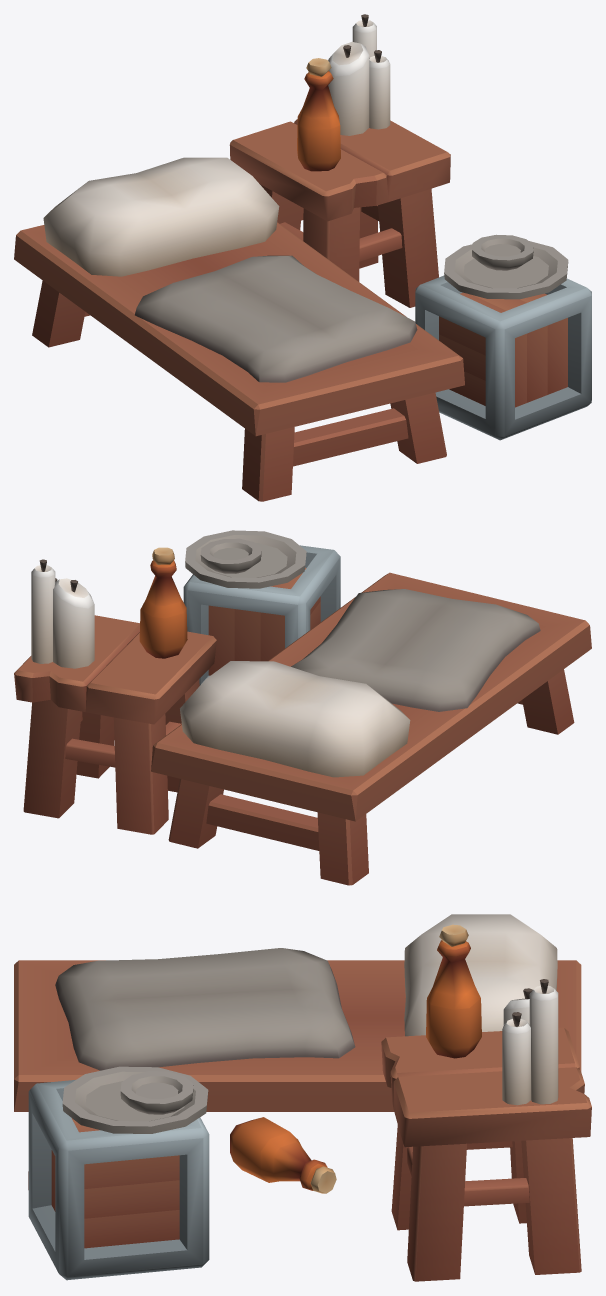
The model's file is dng_bed.glb.
The picture shows the model from 3 angles, top to bottom: view 1: azimuth 30°, elevation 25°; view 2: azimuth 150°, elevation 25°; view 3: azimuth 270°, elevation 25°; orthographic projection. The views are drawn at different scales.
Parts seen in each view (by area): view 1: bed_decorated; view 2: bed_decorated; view 3: bed_decorated.
Boxes of the visible parts, bbox=[...] form: bed_decorated: bbox=[14, 14, 591, 501]; bed_decorated: bbox=[14, 530, 591, 885]; bed_decorated: bbox=[14, 914, 591, 1281].
Bounding box in the file's own units: 2.61 × 1.7 × 3.06.
Materials: 1 (1 with a texture image).
